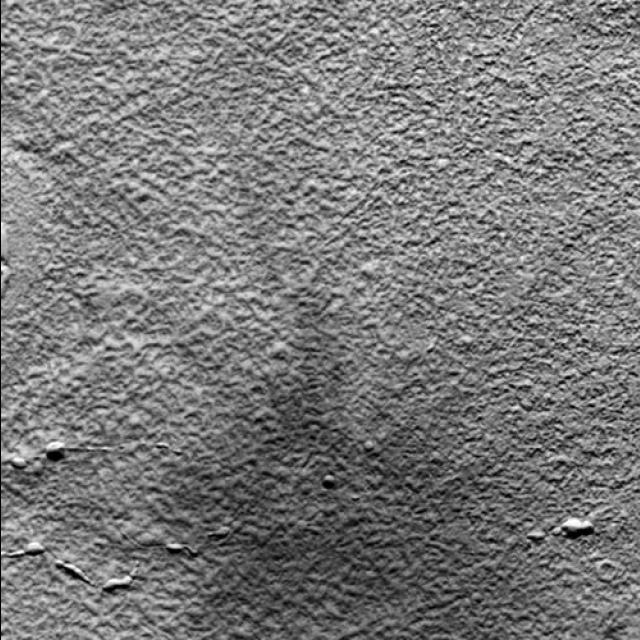crater: (544, 485, 606, 574), (15, 407, 81, 480), (241, 602, 313, 640), (304, 449, 348, 497), (0, 605, 37, 640)
